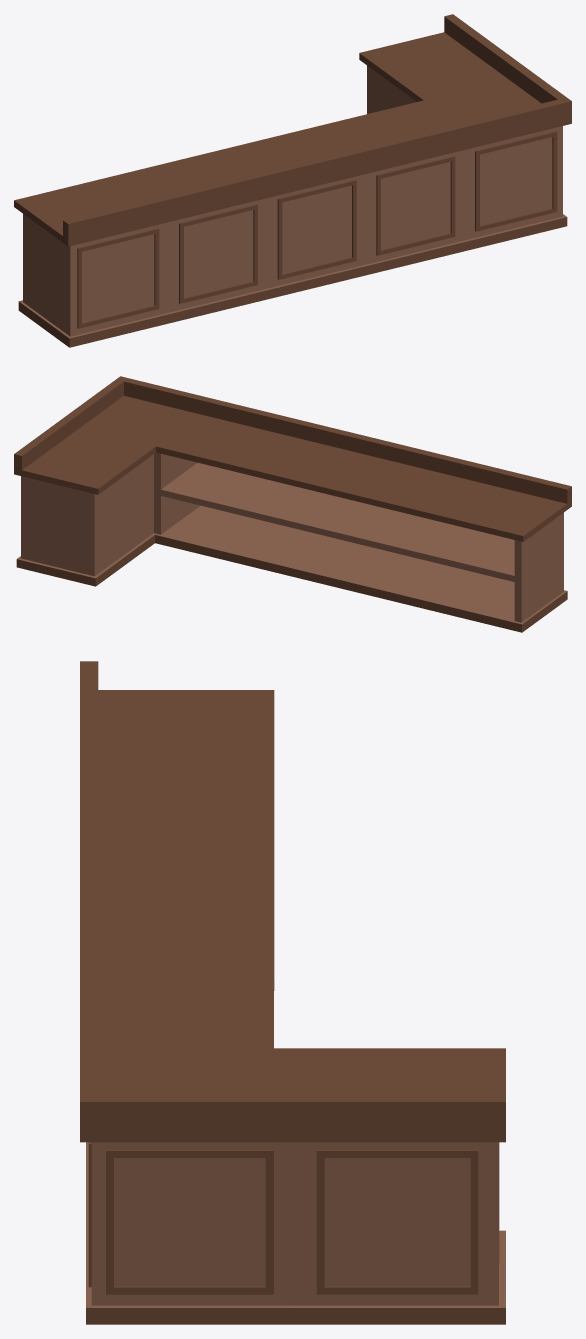
File: SM_Props_Cafe_19.fbx
The picture shows the model from 3 angles, top to bottom: view 1: azimuth 30°, elevation 25°; view 2: azimuth 150°, elevation 25°; view 3: azimuth 270°, elevation 25°; orthographic projection. The views are drawn at different scales.
Visible parts, largest first — view 1: SM_Props_Cafe_19; view 2: SM_Props_Cafe_19; view 3: SM_Props_Cafe_19.
Part boxes in pixels (x1,y1,x2,y2): SM_Props_Cafe_19: [14, 14, 571, 347]; SM_Props_Cafe_19: [14, 376, 571, 632]; SM_Props_Cafe_19: [80, 661, 505, 1324].
Bounding box in the file's own units: 4.81 × 1.14 × 1.96.
